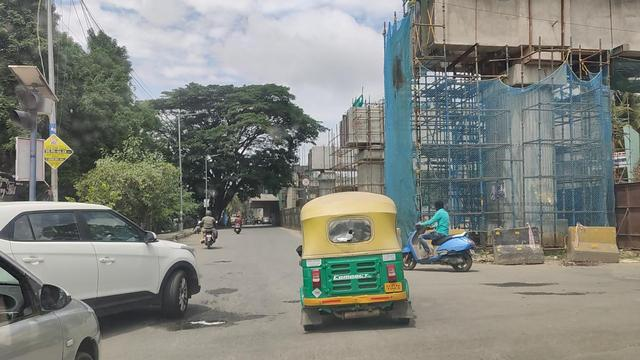LMV: (295, 192, 405, 336), (412, 200, 478, 283)
RoadDamages: (184, 303, 236, 332)
